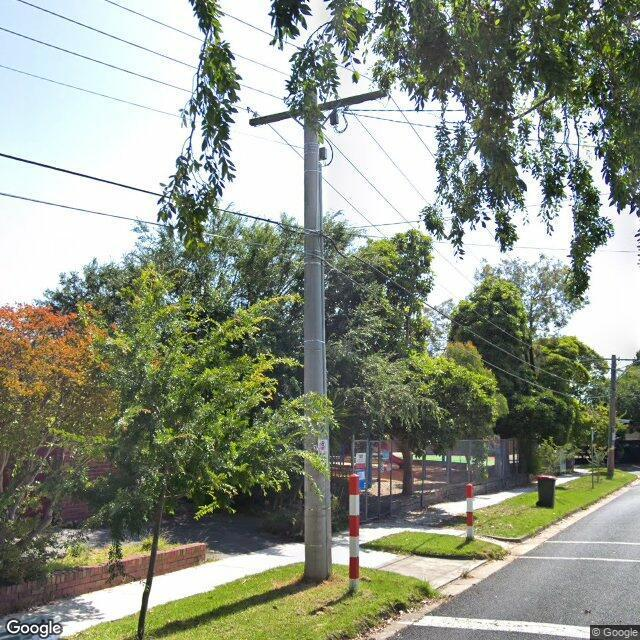concrete-pole: (305, 82, 333, 580)
crossarm: (249, 90, 389, 128), (598, 358, 638, 361)
timber-pole: (606, 355, 617, 479)
